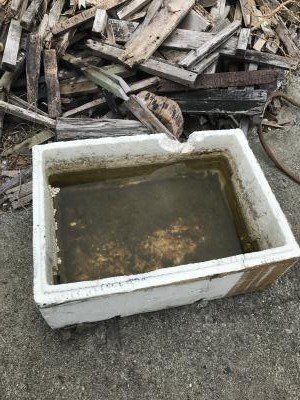styrofoam: (31, 127, 300, 333)
